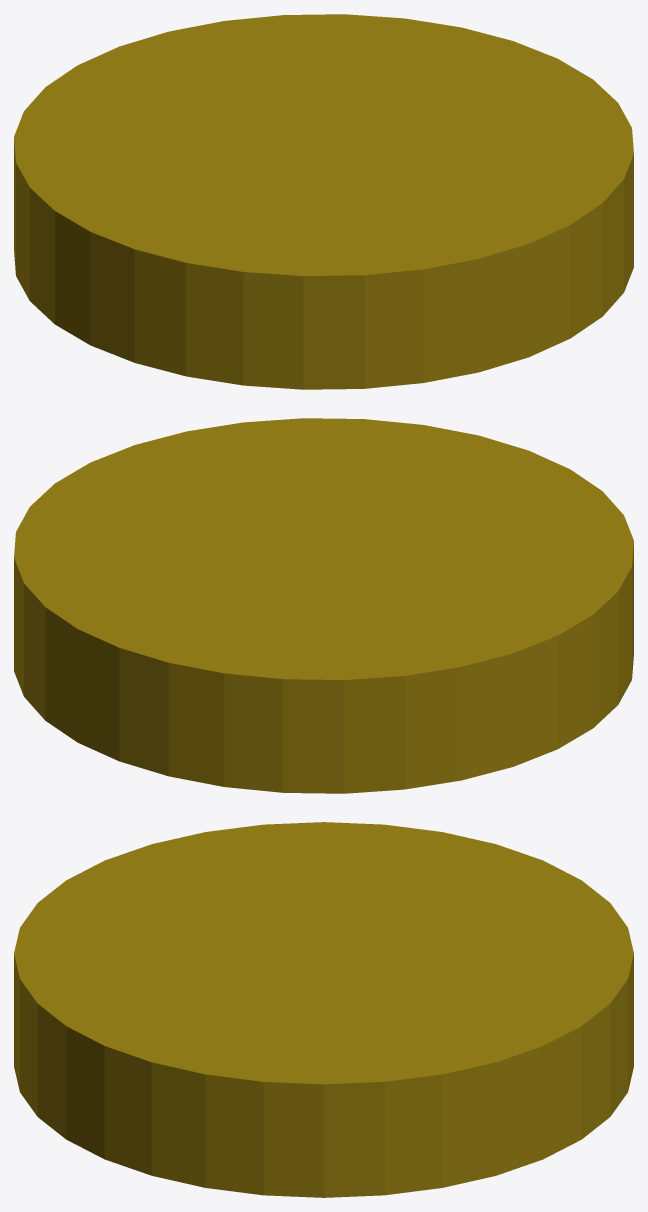
Rendered from coin.fbx.
3 views of the same model, one above another, from view 1: azimuth 30°, elevation 25°; view 2: azimuth 150°, elevation 25°; view 3: azimuth 270°, elevation 25° (orthographic).
Parts seen in each view (by area): view 1: Cylinder; view 2: Cylinder; view 3: Cylinder.
Boxes of the visible parts, x1=… form: Cylinder: x1=14, y1=14, x2=633, y2=389; Cylinder: x1=14, y1=418, x2=633, y2=793; Cylinder: x1=14, y1=822, x2=633, y2=1197.
Size of the model in its own units: 5.02 by 1.01 by 5.02.
